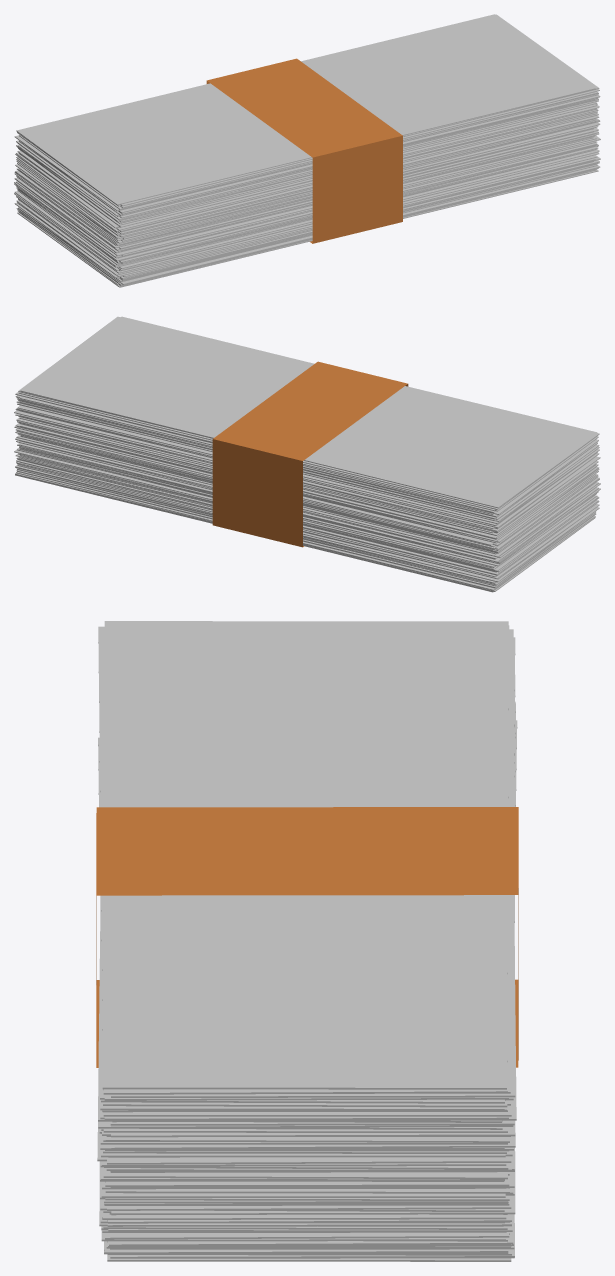
File: cash_bundle.obj
3 views of the same model, one above another, from view 1: azimuth 30°, elevation 25°; view 2: azimuth 150°, elevation 25°; view 3: azimuth 270°, elevation 25° (orthographic). The views are drawn at different scales.
Parts seen in each view (by area): view 1: cash_stack; view 2: cash_stack; view 3: cash_stack.
Boxes of the visible parts, box(x1,y1,x2,y2) form: cash_stack: box(14, 14, 600, 287); cash_stack: box(14, 316, 600, 592); cash_stack: box(96, 621, 518, 1261).
Size of the model in its own units: 0.184 by 0.0313 by 0.0694.
